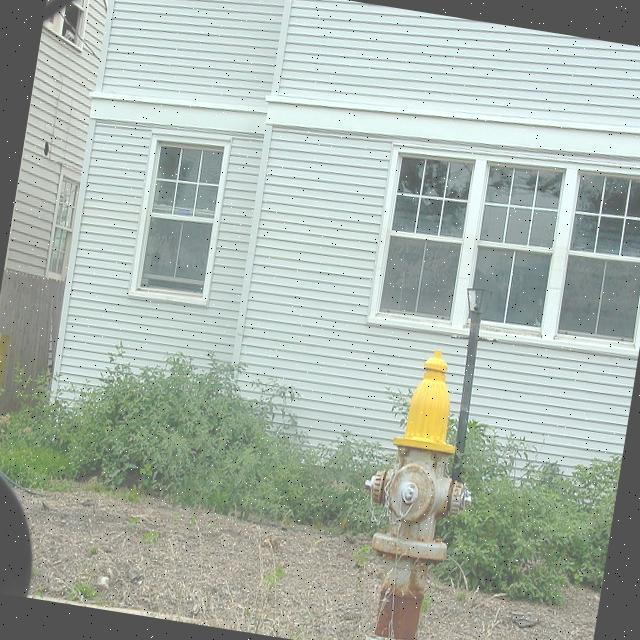fire_hydrant: (338, 343, 494, 640)
